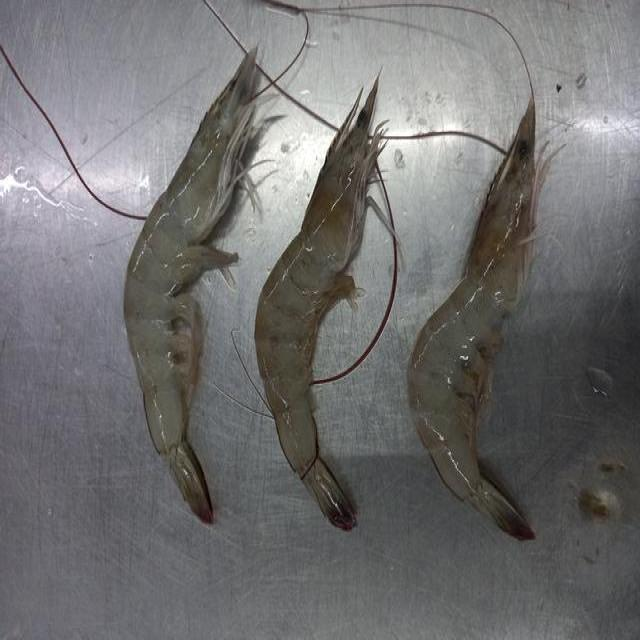shrimp: (124, 50, 255, 522), (408, 100, 546, 539), (255, 80, 382, 530)
